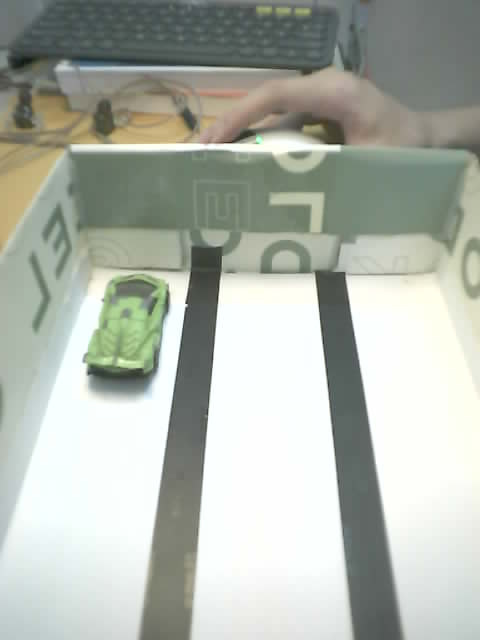vehicle: (83, 268, 170, 399)
